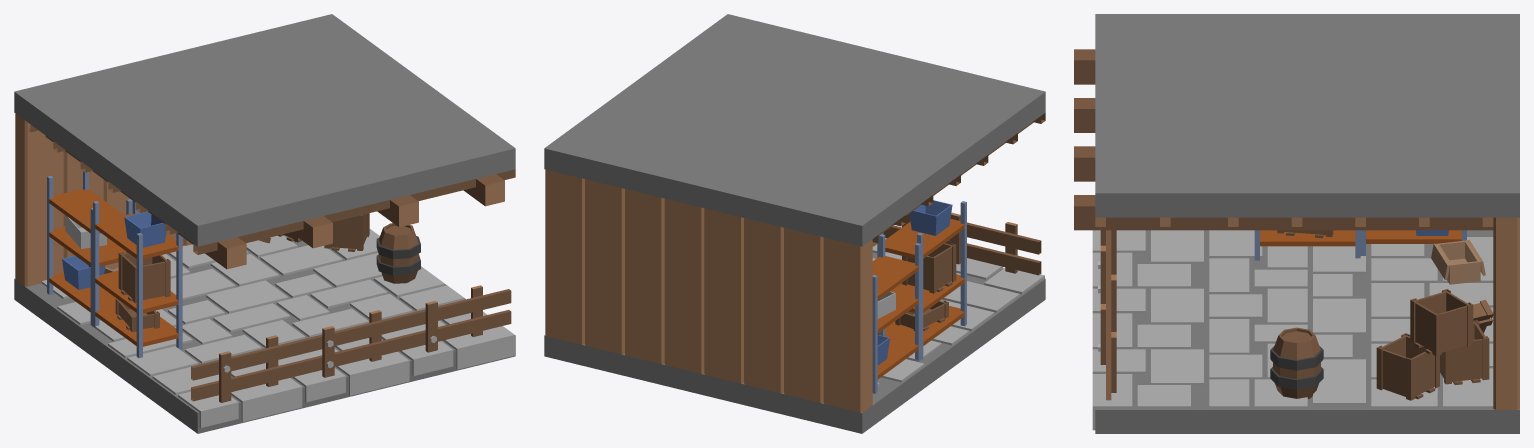
Rendered from ResourceStorage_Level_01_StraightLeftRight.fbx.
The picture shows the model from 3 angles, left to right: view 1: azimuth 30°, elevation 25°; view 2: azimuth 150°, elevation 25°; view 3: azimuth 270°, elevation 25°; orthographic projection. The views are drawn at different scales.
Parts seen in each view (by area): view 1: ResourceStorage_Level_01_StraightLeftRight; view 2: ResourceStorage_Level_01_StraightLeftRight; view 3: ResourceStorage_Level_01_StraightLeftRight.
Boxes of the visible parts, box(x1,y1,x2,y2) form: ResourceStorage_Level_01_StraightLeftRight: box(14, 14, 515, 433); ResourceStorage_Level_01_StraightLeftRight: box(544, 14, 1045, 433); ResourceStorage_Level_01_StraightLeftRight: box(1074, 14, 1519, 433).
Size of the model in its own units: 8 by 5 by 8.4.
